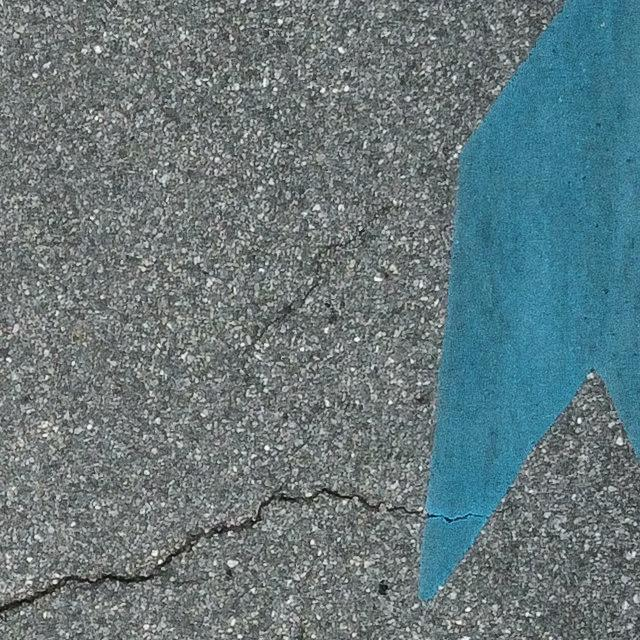TransverseCrack: (1, 486, 493, 615)
